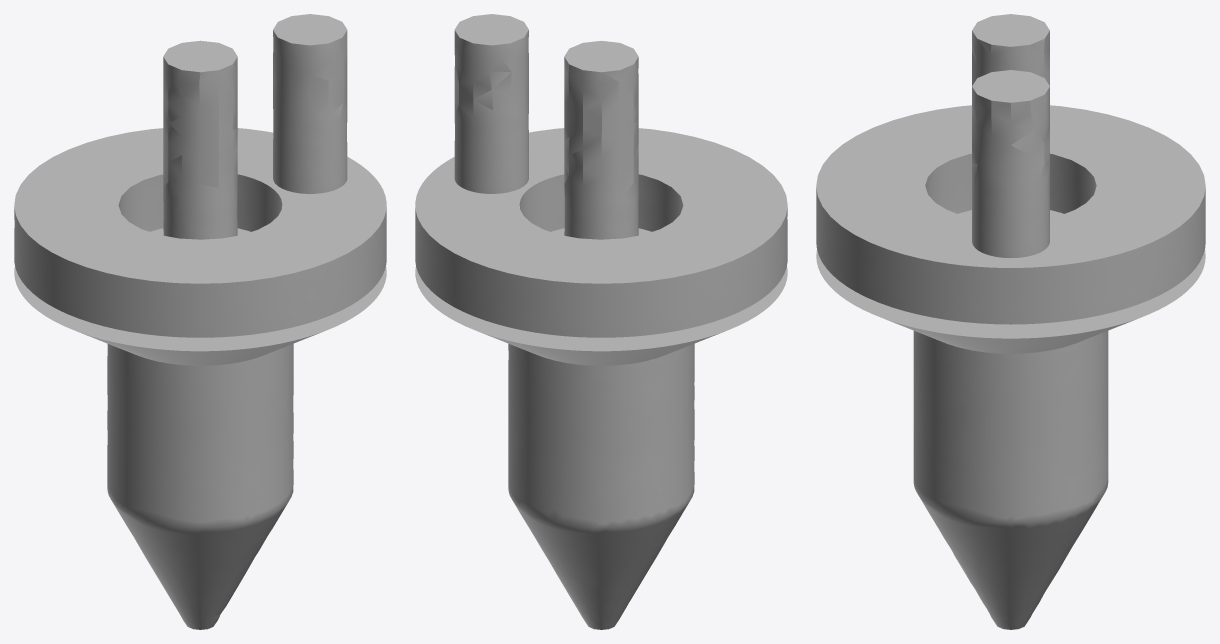
3 renders of one model, left to right at view 1: azimuth 30°, elevation 25°; view 2: azimuth 150°, elevation 25°; view 3: azimuth 270°, elevation 25°, orthographic. The views are drawn at different scales.
Bounding box in the file's own units: 25 × 42 × 25.
Materials: 1 (1 with a texture image).
